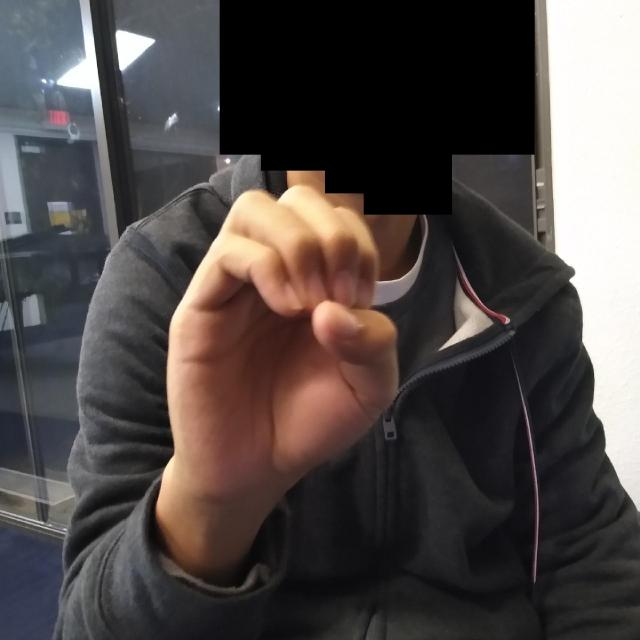E: (115, 140, 473, 542)
